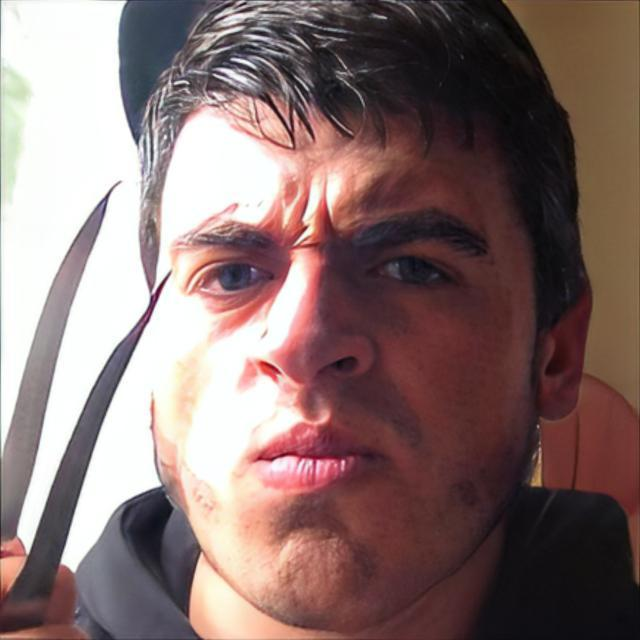disgust: (152, 102, 535, 624)
